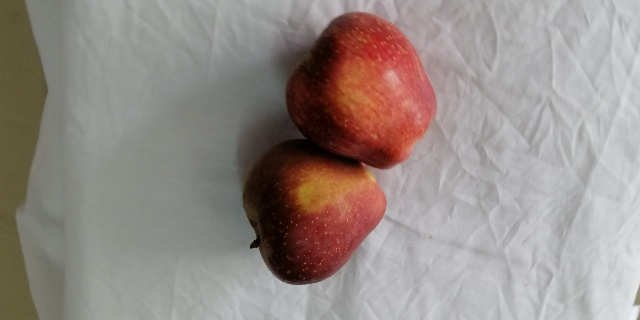apple_kashmir: (281, 10, 441, 168), (241, 138, 400, 287)
